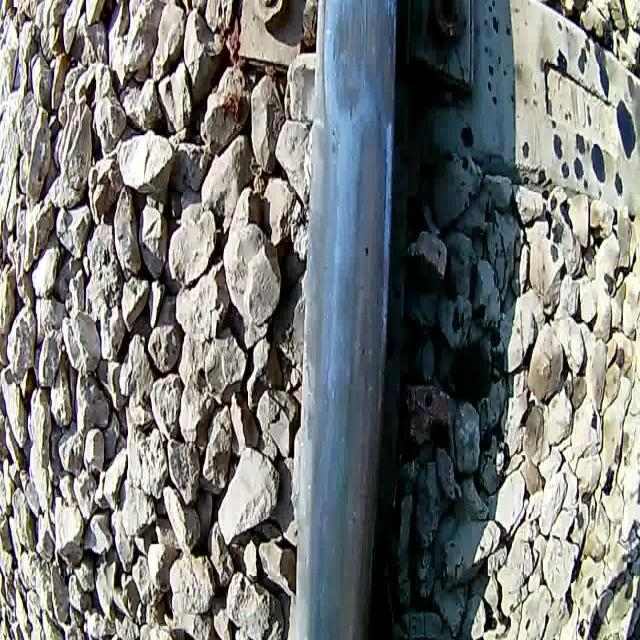Squats: (328, 110, 394, 640), (324, 0, 402, 134)
